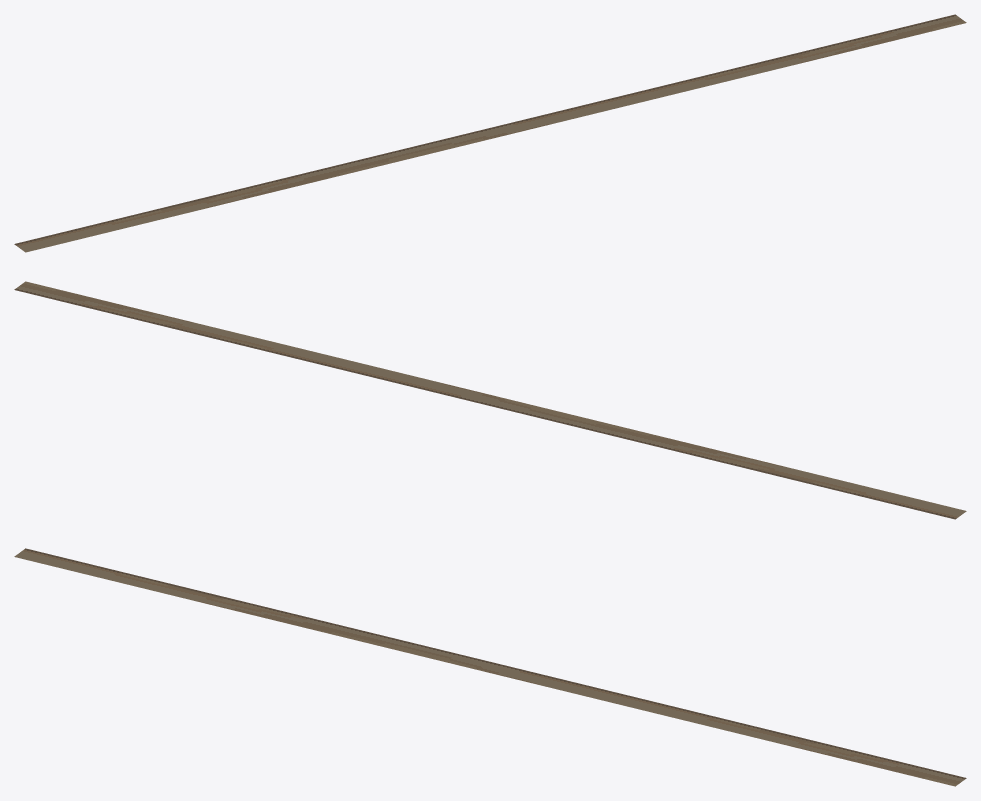
Rendered from kd_stage_135b75_4_22_bounded_piece_4.glb.
3 views of the same model, one above another, from view 1: azimuth 30°, elevation 25°; view 2: azimuth 150°, elevation 25°; view 3: azimuth 330°, elevation 25° (orthographic).
Visible parts, largest first — view 1: kd_stage_135b75_4_22_bounded_piece_4; view 2: kd_stage_135b75_4_22_bounded_piece_4; view 3: kd_stage_135b75_4_22_bounded_piece_4.
Boxes of the visible parts, x1,y1,x2,y2 form: kd_stage_135b75_4_22_bounded_piece_4: (14,14,966,252); kd_stage_135b75_4_22_bounded_piece_4: (14,281,966,519); kd_stage_135b75_4_22_bounded_piece_4: (14,548,966,786).
Bounding box in the file's own units: 1.23 × 4.64e-05 × 0.0262.
1 material, 1 textured.
